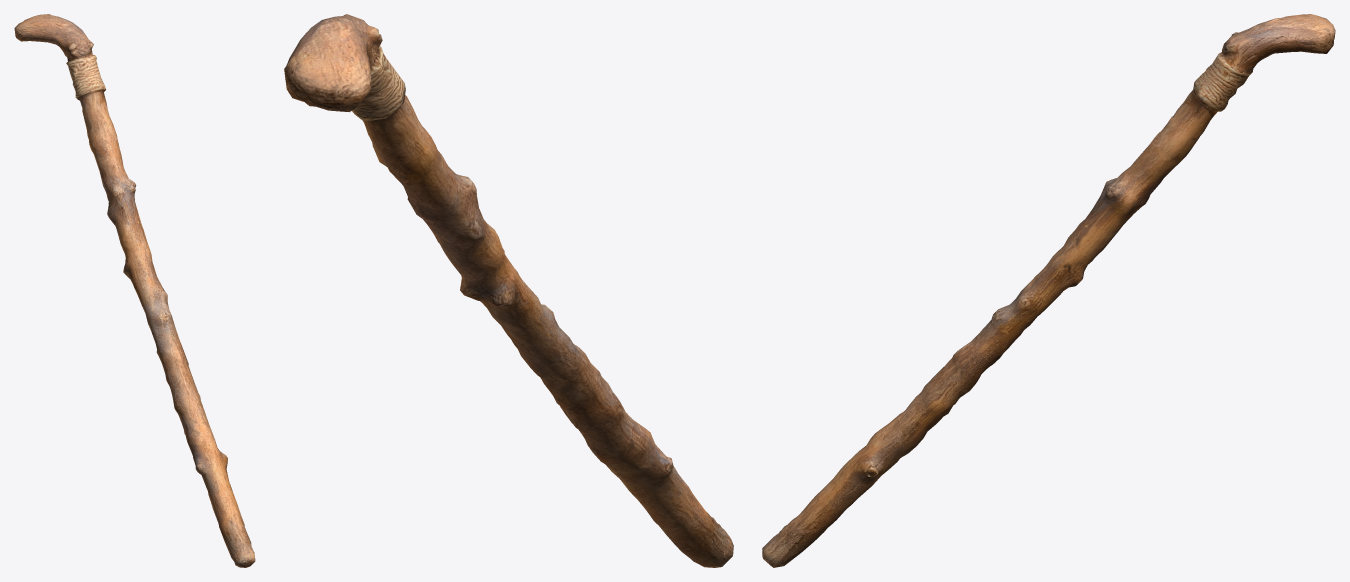
The model's file is walking-stick.glb.
3 views of the same model, side by side, from view 1: azimuth 30°, elevation 25°; view 2: azimuth 150°, elevation 25°; view 3: azimuth 270°, elevation 25° (orthographic). The views are drawn at different scales.
Parts seen in each view (by area): view 1: Supplied walking-stick; view 2: Supplied walking-stick; view 3: Supplied walking-stick.
Boxes of the visible parts, box(x1,y1,x2,y2) form: Supplied walking-stick: box(14, 14, 255, 567); Supplied walking-stick: box(284, 14, 733, 567); Supplied walking-stick: box(762, 14, 1335, 567).
Size of the model in its own units: 0.1336 by 1.05 by 1.
Materials: 1 (1 with a texture image).
